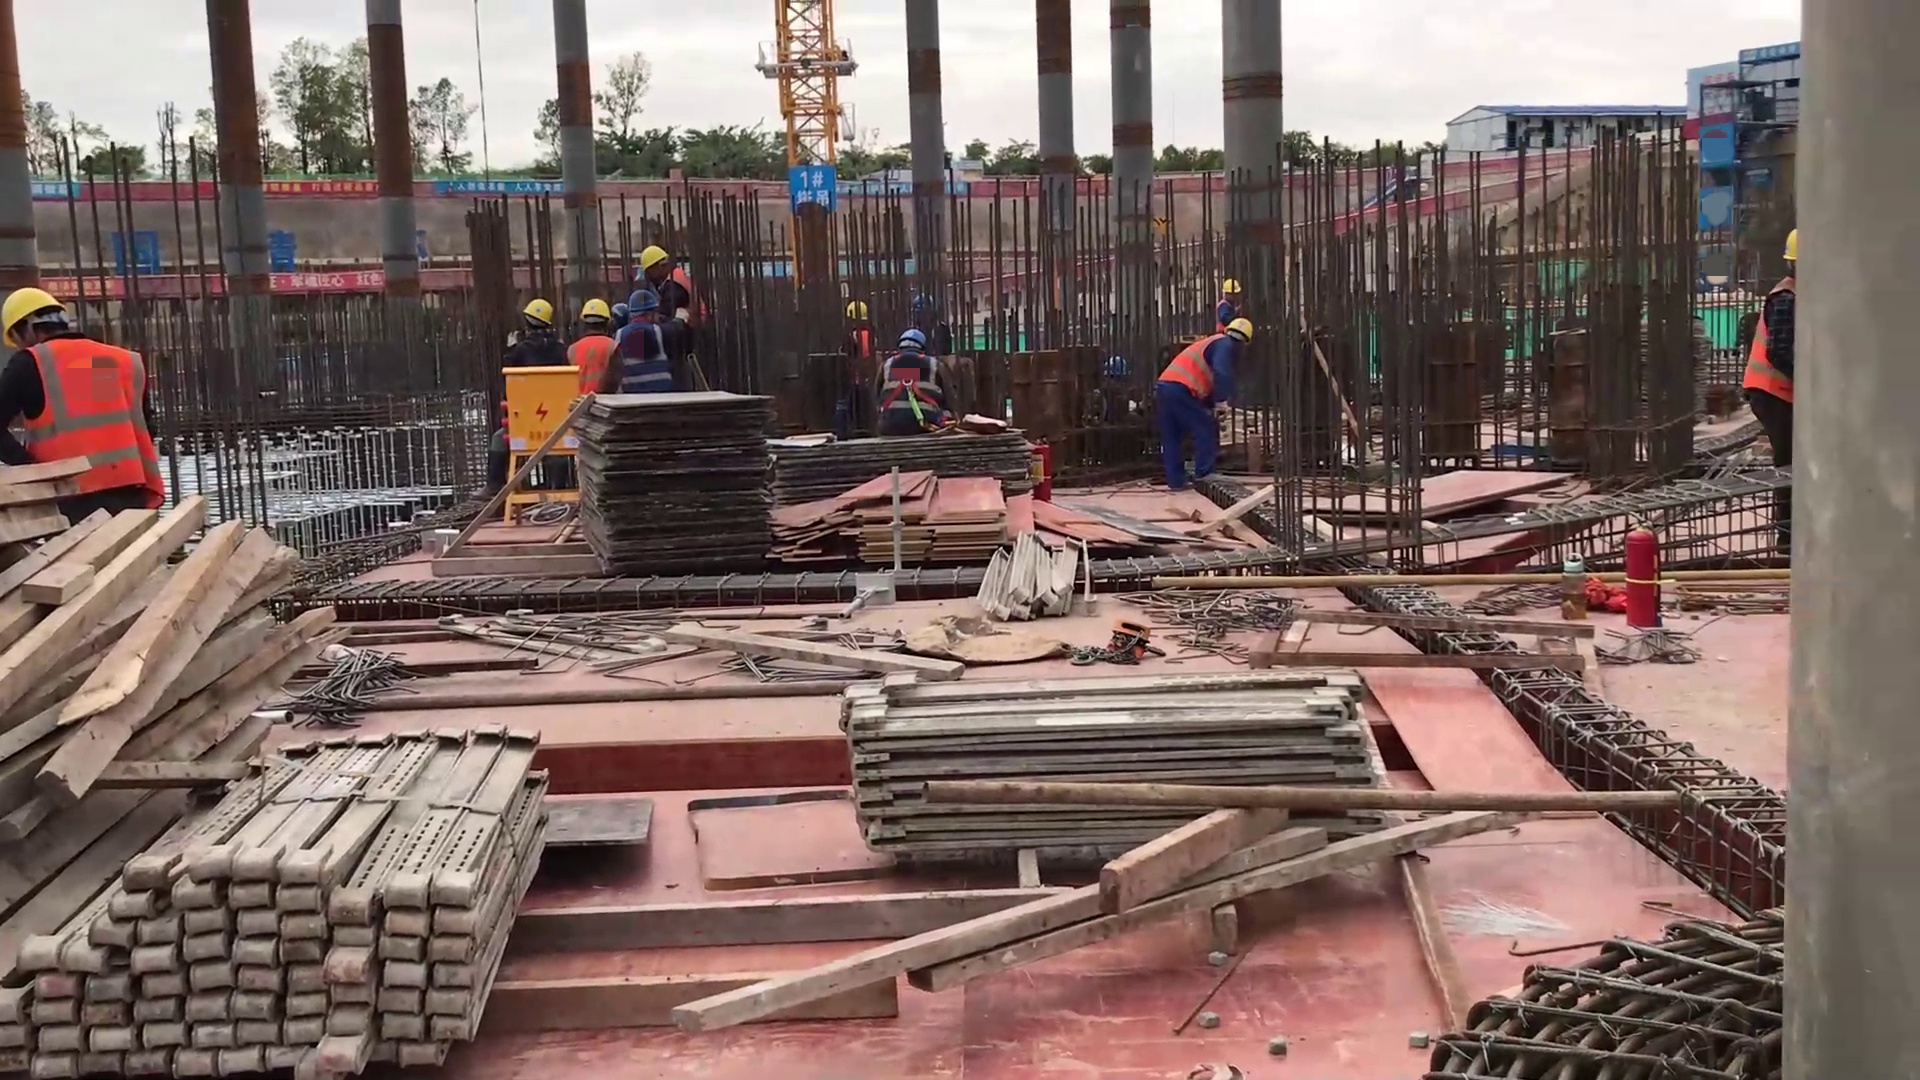helmet: (1, 286, 79, 351), (526, 298, 563, 331), (584, 295, 614, 322), (642, 248, 673, 269), (905, 329, 930, 353), (911, 296, 936, 318), (1102, 354, 1129, 375), (635, 289, 658, 312), (1232, 319, 1254, 342), (1219, 278, 1236, 299), (846, 302, 866, 318), (618, 300, 632, 324)
person: (1, 286, 193, 531), (1746, 212, 1808, 554), (1155, 330, 1268, 481), (879, 331, 966, 439), (617, 291, 685, 402), (636, 248, 706, 343), (506, 286, 564, 368), (1094, 351, 1148, 426), (910, 292, 963, 359), (572, 299, 607, 389), (851, 297, 879, 378), (1212, 271, 1243, 326), (608, 302, 628, 331)
vest: (28, 349, 171, 506), (619, 325, 678, 402), (1184, 336, 1228, 406), (886, 363, 944, 412), (1098, 382, 1138, 436), (669, 276, 710, 322), (571, 339, 611, 382), (507, 334, 558, 367), (921, 322, 959, 354), (851, 331, 883, 365), (1209, 305, 1230, 338)
